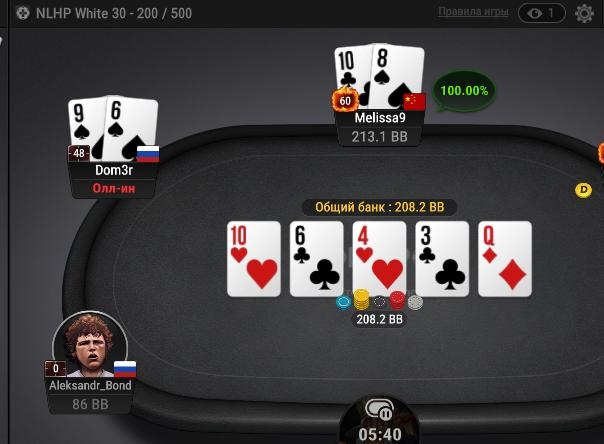10c: (333, 45, 373, 109)
10h: (227, 221, 280, 297)
3c: (417, 223, 469, 297)
4h: (354, 221, 407, 295)
6c: (290, 222, 342, 291)
6s: (105, 98, 158, 161)
8s: (371, 42, 424, 109)
9s: (68, 98, 105, 161)
Qd: (480, 222, 530, 296)
